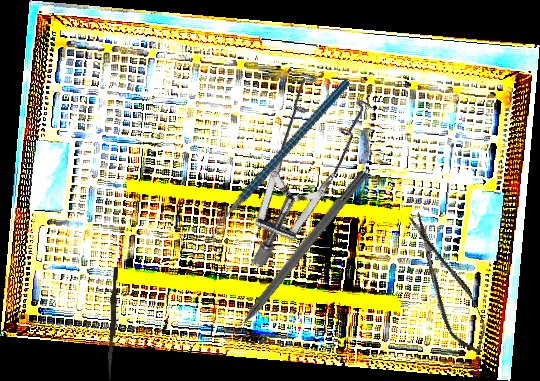Chopper: (171, 78, 388, 250)
Hook Surgical: (220, 167, 370, 348)
Micro Scissor: (401, 205, 494, 361)
Pusher: (107, 266, 119, 381)
Speculum: (181, 51, 412, 269)
